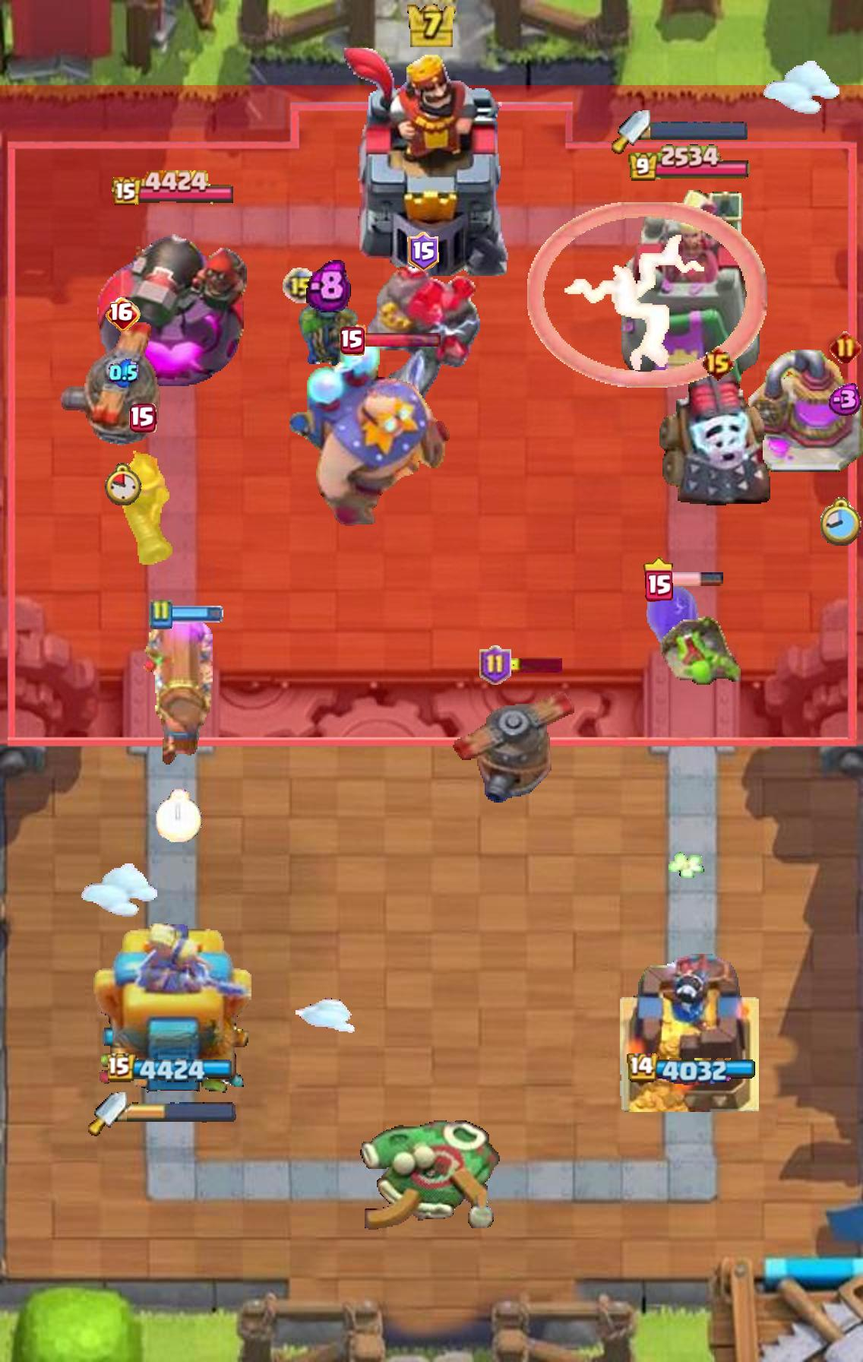elixir: (306, 259, 351, 313), (823, 383, 863, 416), (108, 358, 138, 387)
